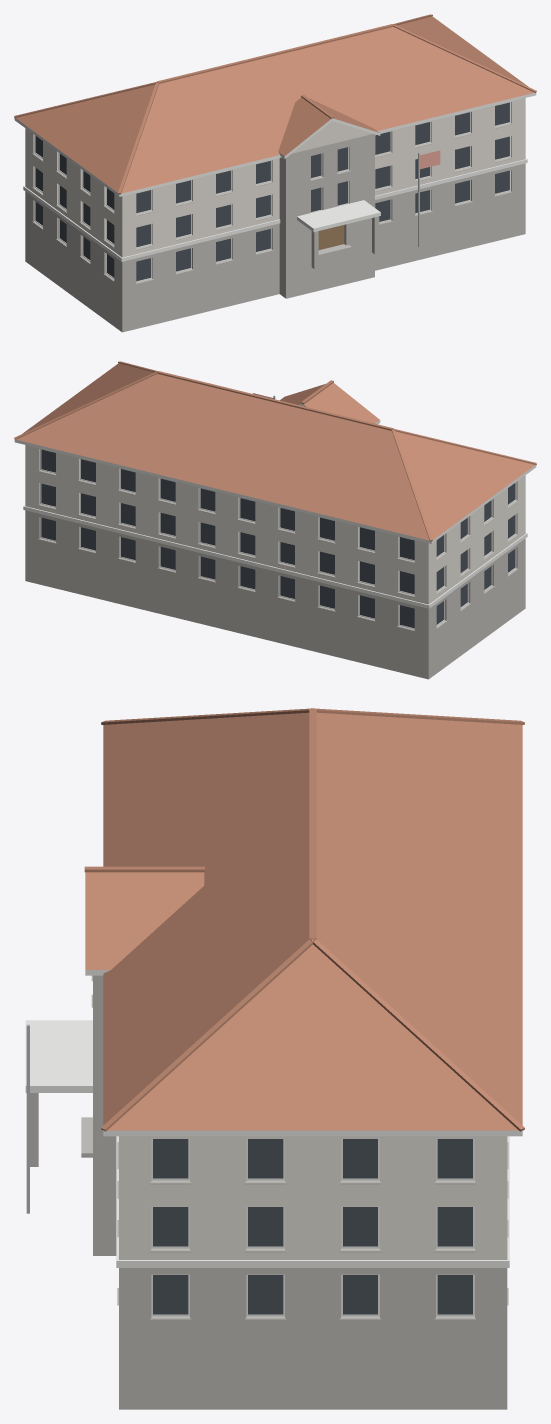
File: public_hipped_3_l.glb
3 views of the same model, one above another, from view 1: azimuth 30°, elevation 25°; view 2: azimuth 150°, elevation 25°; view 3: azimuth 270°, elevation 25° (orthographic). The views are drawn at different scales.
Visible parts, largest first — view 1: public_hipped_3_l; view 2: public_hipped_3_l; view 3: public_hipped_3_l.
Boxes of the visible parts, bbox=[...] form: public_hipped_3_l: bbox=[14, 14, 536, 332]; public_hipped_3_l: bbox=[14, 361, 536, 679]; public_hipped_3_l: bbox=[25, 708, 524, 1409].
Size of the model in its own units: 37.39 by 16.58 by 19.3.
